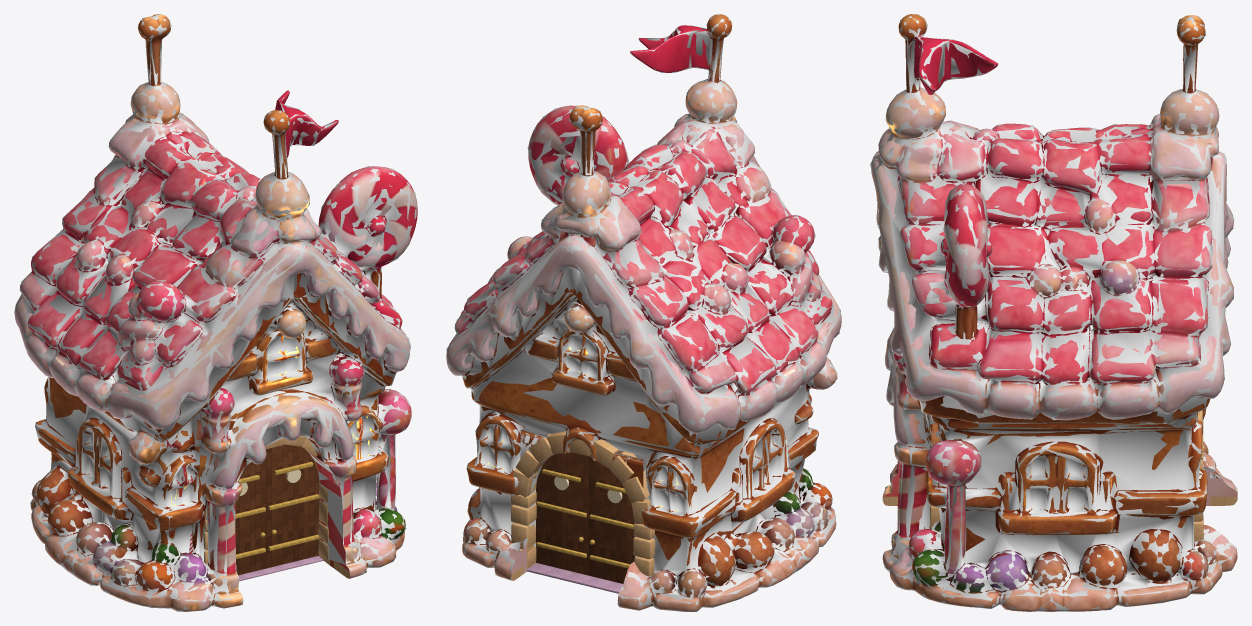
Rendered from GIN_BLD_CandyCaneCottage.fbx.
3 renders of one model, left to right at view 1: azimuth 30°, elevation 25°; view 2: azimuth 150°, elevation 25°; view 3: azimuth 270°, elevation 25°, orthographic. The views are drawn at different scales.
Visible parts, largest first — view 1: GIN_BLD_CandyCaneCottage, COL_GIN_BLD_CandyCaneCottage_Shell, GIN_BLD_CandyCaneCottage_Door_FR, GIN_BLD_CandyCaneCottage_Door_FL, GIN_BLD_CandyCaneCottage_Frame; view 2: GIN_BLD_CandyCaneCottage, COL_GIN_BLD_CandyCaneCottage_Shell, GIN_BLD_CandyCaneCottage_Frame, GIN_BLD_CandyCaneCottage_Door_BL, GIN_BLD_CandyCaneCottage_Door_BR; view 3: GIN_BLD_CandyCaneCottage, COL_GIN_BLD_CandyCaneCottage_Shell, GIN_BLD_CandyCaneCottage_Frame.
Boxes of the visible parts, x1,y1,x2,y2 form: GIN_BLD_CandyCaneCottage: (14, 14, 417, 611); COL_GIN_BLD_CandyCaneCottage_Shell: (14, 14, 416, 611); GIN_BLD_CandyCaneCottage_Door_FR: (260, 444, 319, 568); GIN_BLD_CandyCaneCottage_Door_FL: (235, 449, 276, 575); GIN_BLD_CandyCaneCottage_Frame: (189, 436, 328, 581); GIN_BLD_CandyCaneCottage: (446, 14, 841, 611); COL_GIN_BLD_CandyCaneCottage_Shell: (446, 14, 840, 611); GIN_BLD_CandyCaneCottage_Frame: (511, 431, 655, 593); GIN_BLD_CandyCaneCottage_Door_BL: (536, 452, 594, 575); GIN_BLD_CandyCaneCottage_Door_BR: (578, 456, 635, 583); GIN_BLD_CandyCaneCottage: (871, 14, 1237, 611); COL_GIN_BLD_CandyCaneCottage_Shell: (870, 14, 1237, 611); GIN_BLD_CandyCaneCottage_Frame: (930, 410, 1203, 541).
Size of the model in its own units: 19.35 by 28.01 by 18.1.
